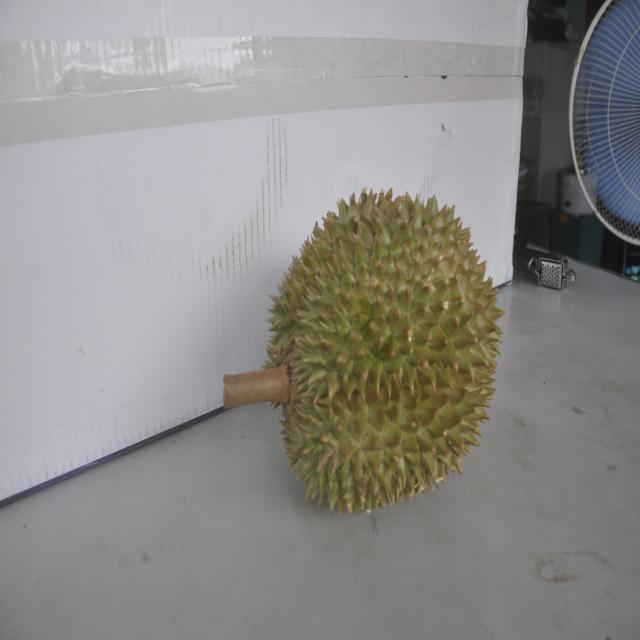mature: (261, 183, 495, 512)
